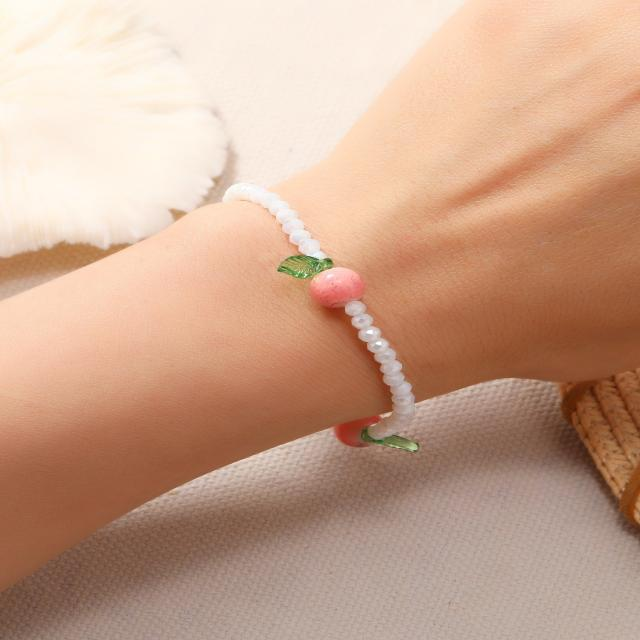bracelet: (204, 125, 497, 462)
